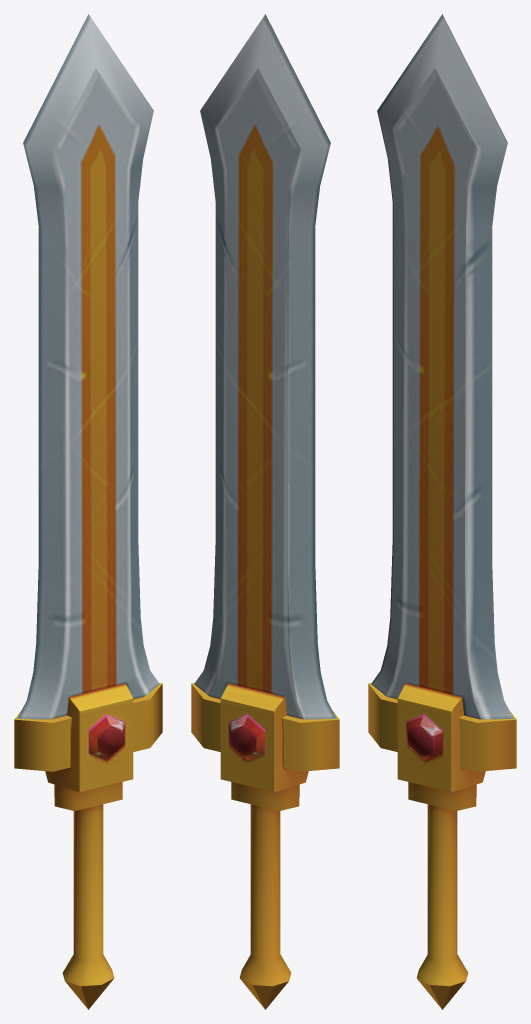
Rendered from 101_lv1_handsword.FBX.
The picture shows the model from 3 angles, left to right: view 1: azimuth 30°, elevation 25°; view 2: azimuth 150°, elevation 25°; view 3: azimuth 330°, elevation 25°; orthographic projection.
Parts seen in each view (by area): view 1: 101_lv1_handsword; view 2: 101_lv1_handsword; view 3: 101_lv1_handsword.
Boxes of the visible parts, x1,y1,x2,y2 form: 101_lv1_handsword: [14, 14, 162, 1009]; 101_lv1_handsword: [191, 14, 339, 1009]; 101_lv1_handsword: [368, 14, 516, 1009].
Bounding box in the file's own units: 13.55 × 86.76 × 7.05.
